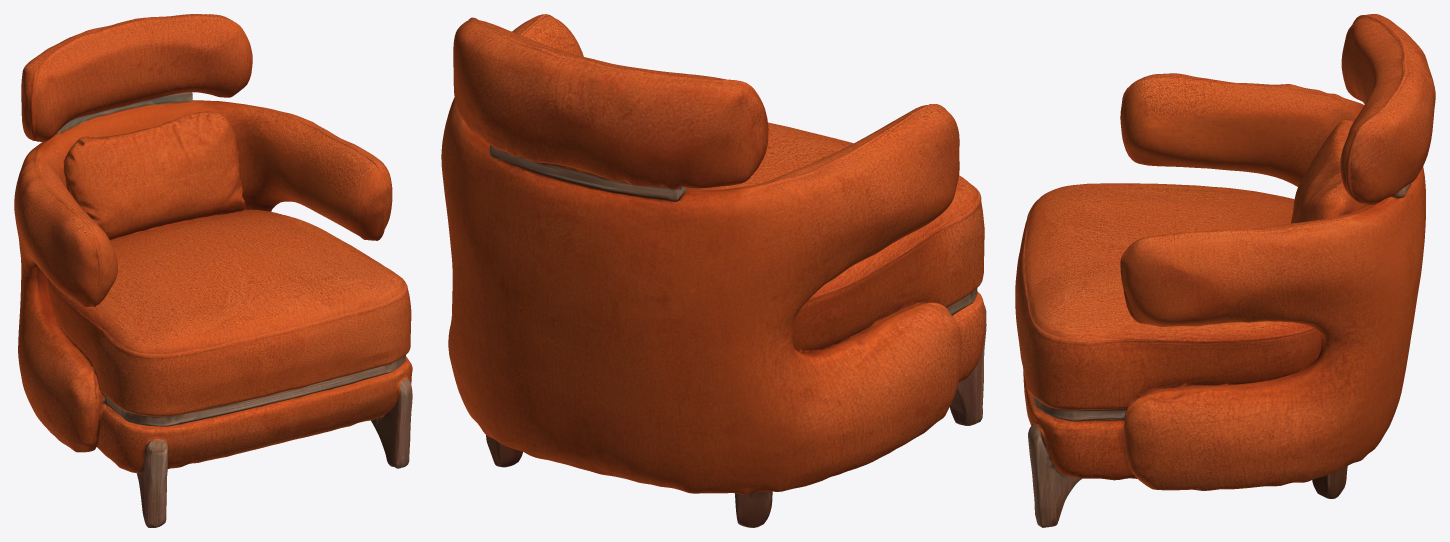
The model's file is nass-berjer.glb.
3 views of the same model, side by side, from view 1: azimuth 30°, elevation 25°; view 2: azimuth 150°, elevation 25°; view 3: azimuth 270°, elevation 25° (orthographic). The views are drawn at different scales.
Parts seen in each view (by area): view 1: Nass_Berjer_Surface; view 2: Nass_Berjer_Surface; view 3: Nass_Berjer_Surface.
Boxes of the visible parts, x1,y1,x2,y2 form: Nass_Berjer_Surface: (14,14,412,527); Nass_Berjer_Surface: (441,14,986,527); Nass_Berjer_Surface: (1015,14,1435,527).
Size of the model in its own units: 0.945 by 0.9792 by 0.9379.
1 material, 1 textured.
